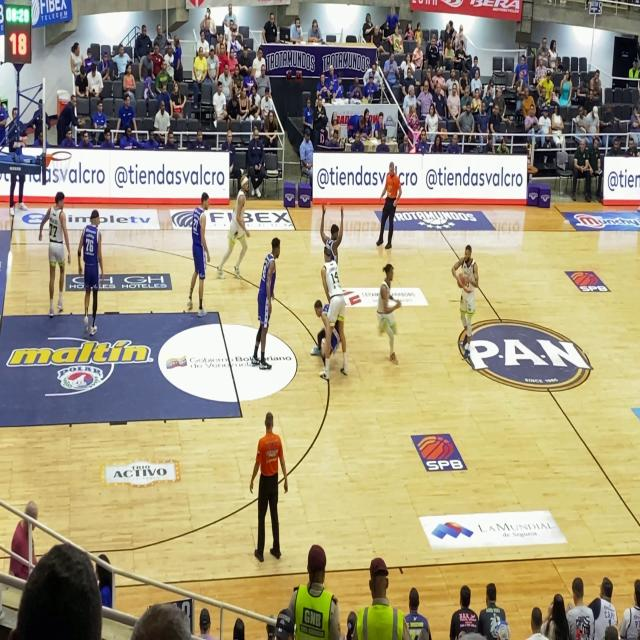Ball: (454, 261, 468, 295)
referee: (247, 406, 293, 567), (380, 156, 407, 266)
team1: (315, 246, 359, 388), (38, 178, 74, 324), (216, 156, 254, 292), (454, 240, 484, 357), (375, 257, 403, 376)
team2: (250, 226, 286, 376), (77, 203, 107, 342), (185, 184, 214, 323), (303, 292, 337, 373), (321, 194, 345, 253)
ubasket: (48, 150, 76, 181)
